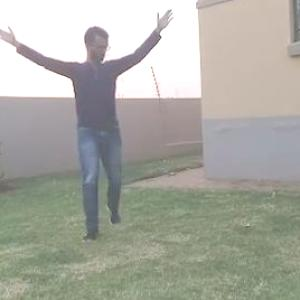takeoff: (1, 0, 177, 247)
